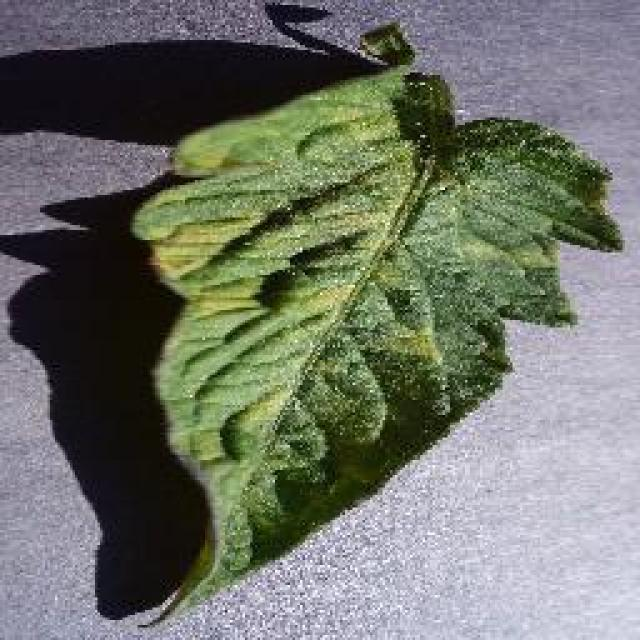leaf mold: (128, 68, 624, 618)
